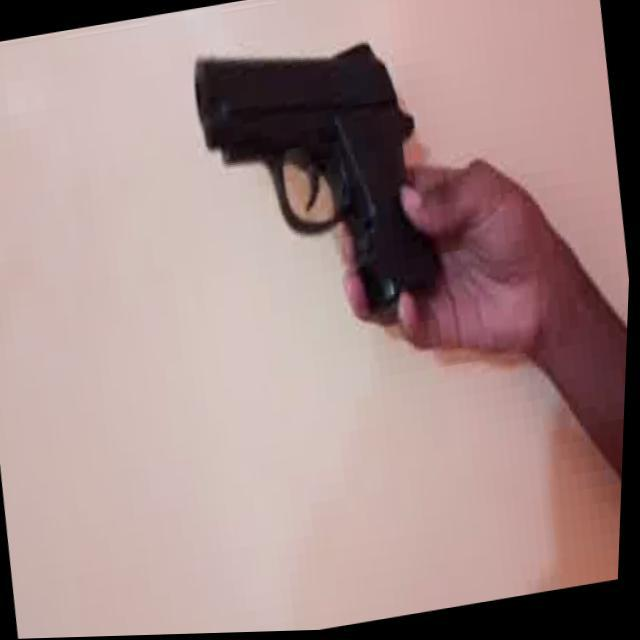weapon: (182, 19, 452, 342)
